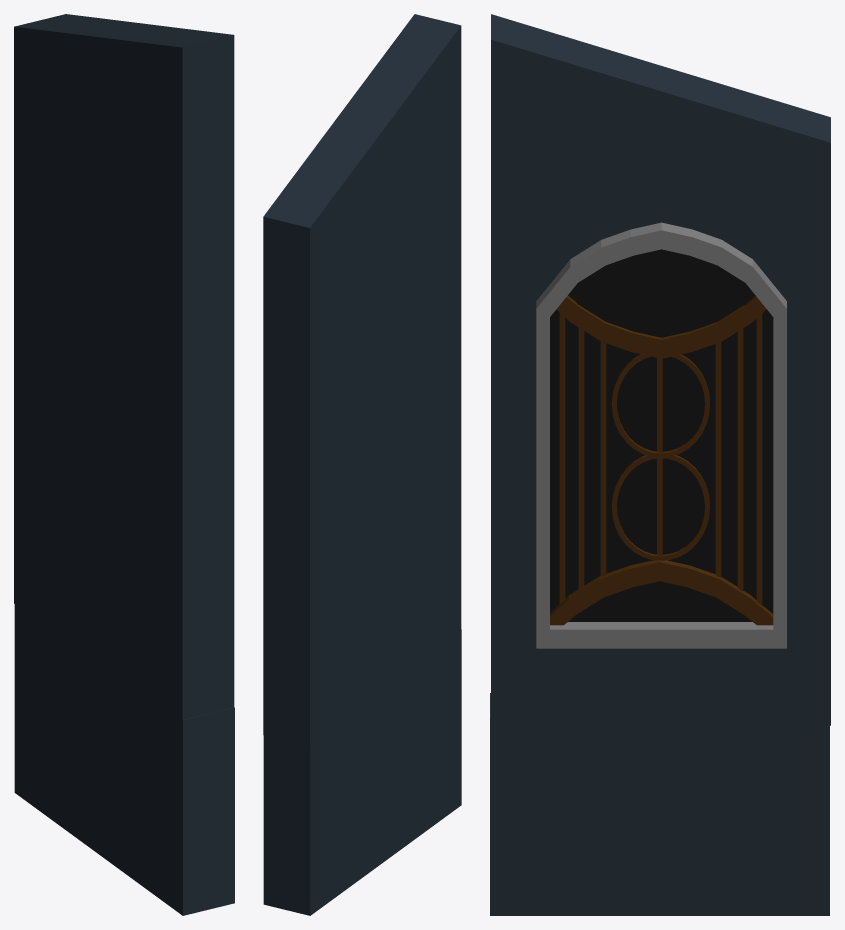
File: main_back_to_side_block3.glb
3 renders of one model, left to right at view 1: azimuth 30°, elevation 25°; view 2: azimuth 150°, elevation 25°; view 3: azimuth 270°, elevation 25°, orthographic. The views are drawn at different scales.
Visible parts, largest first — view 1: Cube, Cube.010; view 2: Cube, Cube.010; view 3: Cube, Cube.010, Cube.001, Khung001, decor001.001, decor001, Cube.005, Cube.008, Cube.004, Cube.007, Cylinder.002, Cylinder.001 (+3 smaller).
Boxes of the visible parts, x1=… form: Cube: x1=14, y1=14, x2=234, y2=726; Cube.010: x1=14, y1=598, x2=234, y2=915; Cube: x1=263, y1=14, x2=461, y2=746; Cube.010: x1=263, y1=629, x2=461, y2=915; Cube: x1=491, y1=14, x2=830, y2=725; Cube.010: x1=490, y1=693, x2=829, y2=915; Cube.001: x1=550, y1=249, x2=773, y2=621; Khung001: x1=536, y1=222, x2=786, y2=648; decor001.001: x1=550, y1=560, x2=773, y2=625; decor001: x1=556, y1=295, x2=766, y2=358; Cube.005: x1=756, y1=313, x2=762, y2=605; Cube.008: x1=559, y1=313, x2=565, y2=604; Cube.004: x1=737, y1=328, x2=743, y2=591; Cube.007: x1=578, y1=327, x2=584, y2=590; Cylinder.002: x1=611, y1=455, x2=709, y2=560; Cylinder.001: x1=611, y1=354, x2=709, y2=457.
Size of the model in its own units: 1.01 by 12.36 by 4.36.
